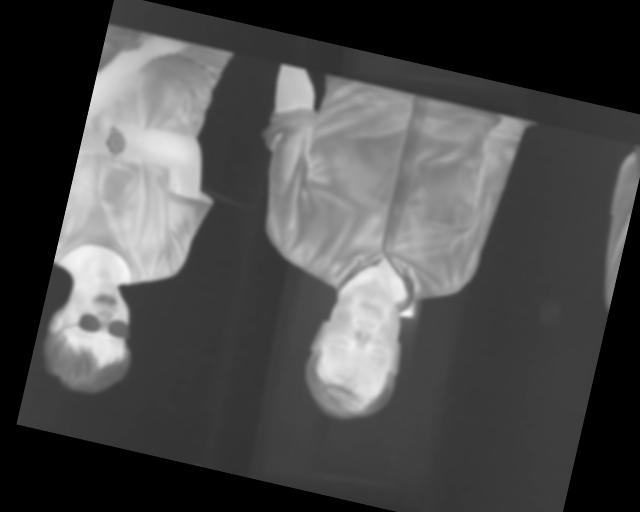face: (294, 272, 417, 431), (33, 268, 144, 402)
